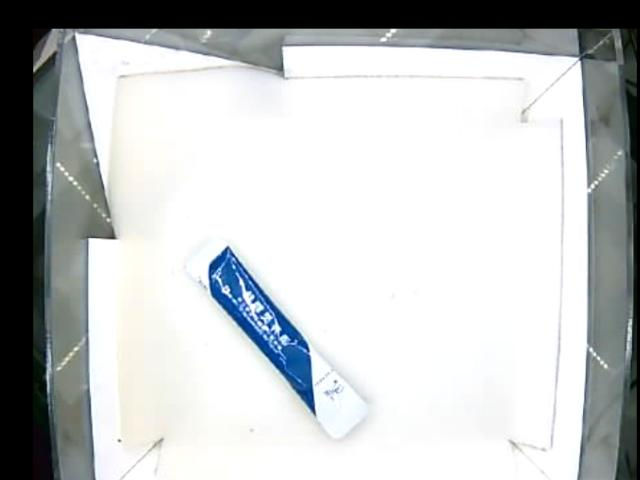Medicine: (186, 241, 368, 438)
